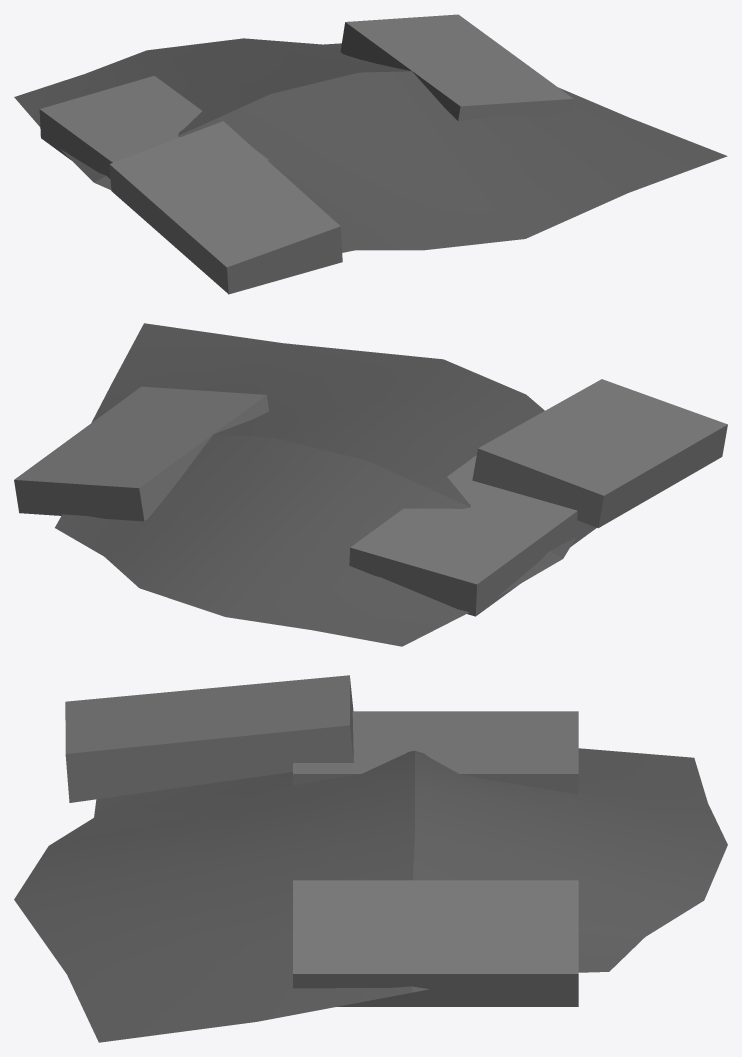
Rendered from stone_pile.fbx.
3 renders of one model, top to bottom at view 1: azimuth 30°, elevation 25°; view 2: azimuth 150°, elevation 25°; view 3: azimuth 270°, elevation 25°, orthographic. The views are drawn at different scales.
Visible parts, largest first — view 1: 1 tile.002; view 2: 1 tile.002; view 3: 1 tile.002.
Part boxes in pixels (bbox=[...]): 1 tile.002: bbox=[14, 14, 727, 294]; 1 tile.002: bbox=[14, 323, 727, 646]; 1 tile.002: bbox=[14, 675, 727, 1042].
Size of the model in its own units: 39.43 by 5.08 by 38.04.
